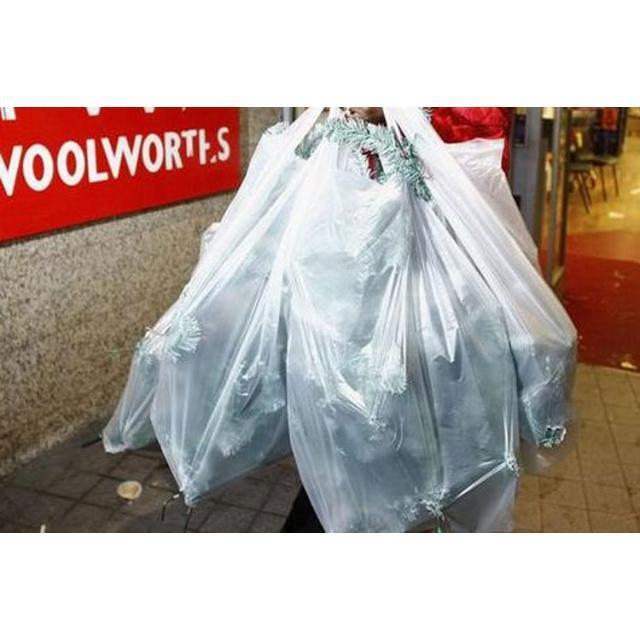plastic: (104, 106, 575, 532)
